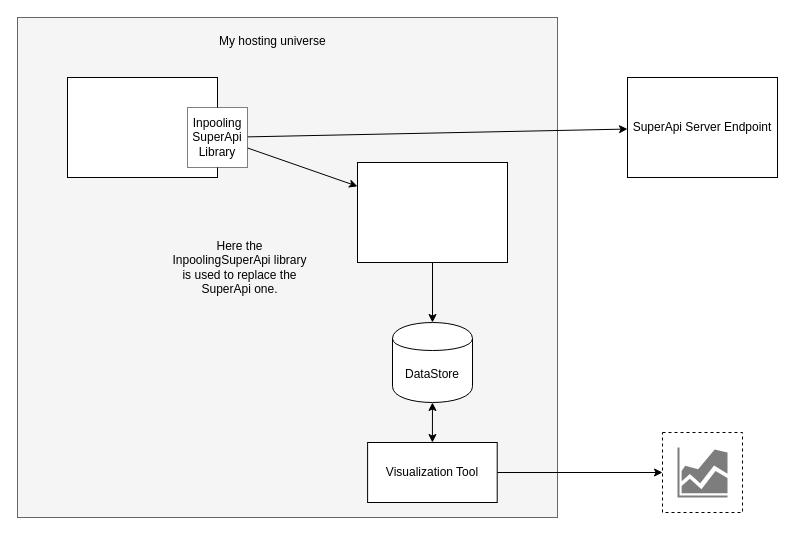
Image size: 795x535. Some labels were removed from this diagram. The shapes that lost their labels are listed below. From the top down, each one's box as (x1, y1, x2, y2) in pixels, then its label:
(66, 76, 218, 178): Worker/Server Using SuperApi
(356, 162, 508, 262): Inpooling Proxy Logger
